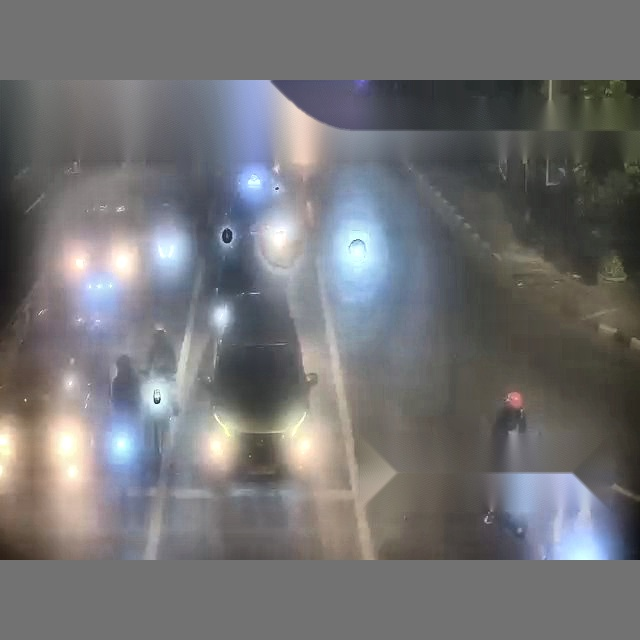Mobil: (480, 472, 625, 559)
